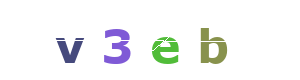3: (75, 0, 155, 80)
B: (151, 0, 231, 80)
E: (110, 0, 190, 80)
V: (29, 0, 109, 80)
